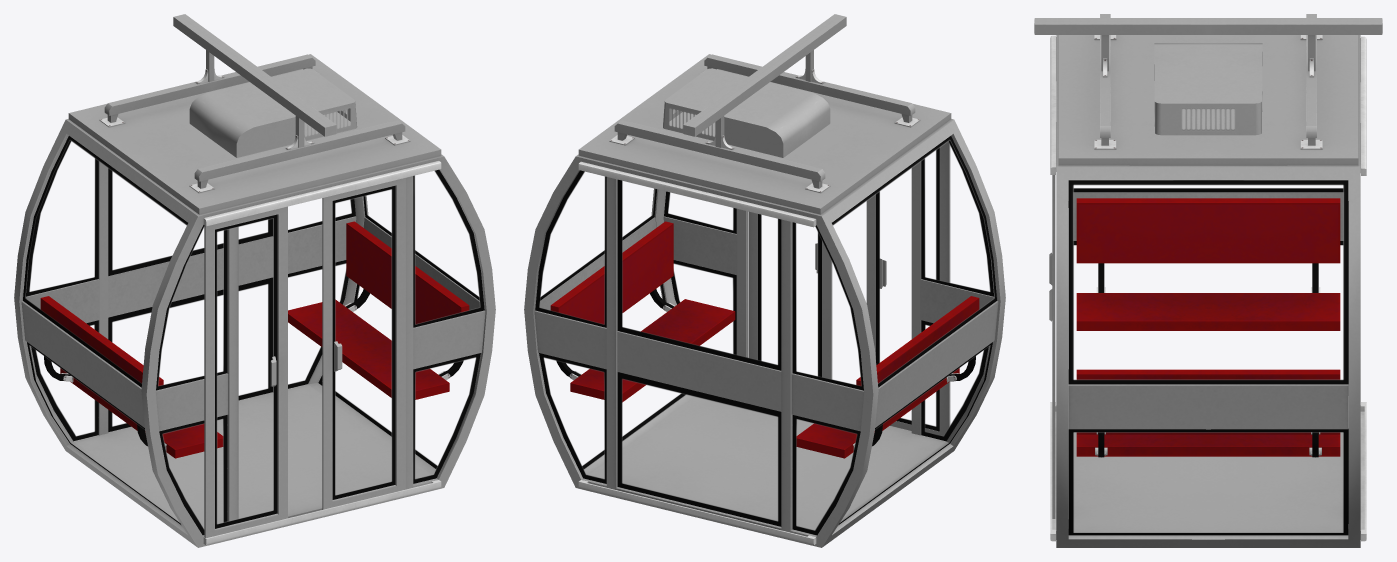
File: cabin_new.glb
The picture shows the model from 3 angles, left to right: view 1: azimuth 30°, elevation 25°; view 2: azimuth 150°, elevation 25°; view 3: azimuth 270°, elevation 25°; orthographic projection. The views are drawn at different scales.
Visible parts, largest first — view 1: Object_2; view 2: Object_2; view 3: Object_2.
Boxes of the visible parts, <box> form: Object_2: <box>14,14,495,547</box>; Object_2: <box>524,14,1005,547</box>; Object_2: <box>1034,14,1382,547</box>.
Size of the model in its own units: 298 by 326 by 224.
1 material, 1 textured.
